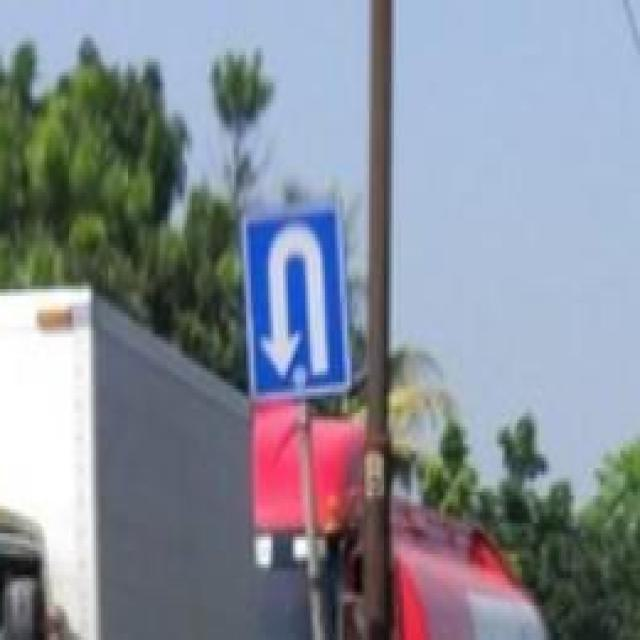U-turn: (244, 215, 348, 390)
